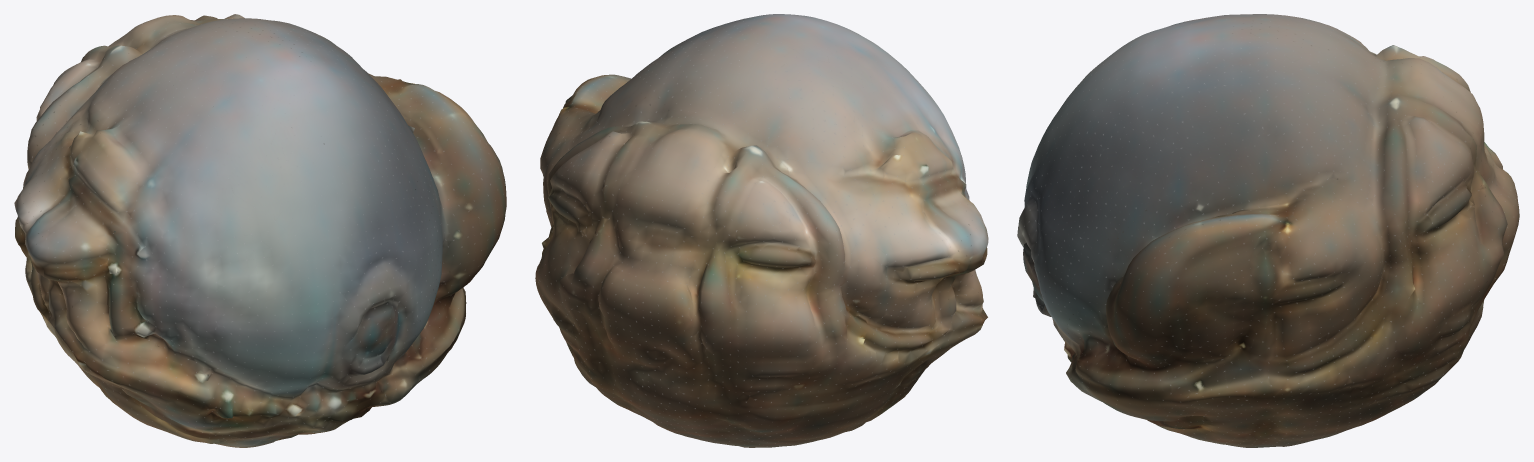
Rendered from pearl.gltf.
3 renders of one model, left to right at view 1: azimuth 30°, elevation 25°; view 2: azimuth 150°, elevation 25°; view 3: azimuth 270°, elevation 25°, orthographic. The views are drawn at different scales.
Visible parts, largest first — view 1: Rare rounded pearly model o...; view 2: Rare rounded pearly model o...; view 3: Rare rounded pearly model o....
Boxes of the visible parts, x1,y1,x2,y2 form: Rare rounded pearly model o...: [14, 14, 506, 447]; Rare rounded pearly model o...: [535, 14, 988, 447]; Rare rounded pearly model o...: [1017, 14, 1519, 447].
Bounding box in the file's own units: 1.5 × 1.31 × 1.48.
Materials: 1 (1 with a texture image).
